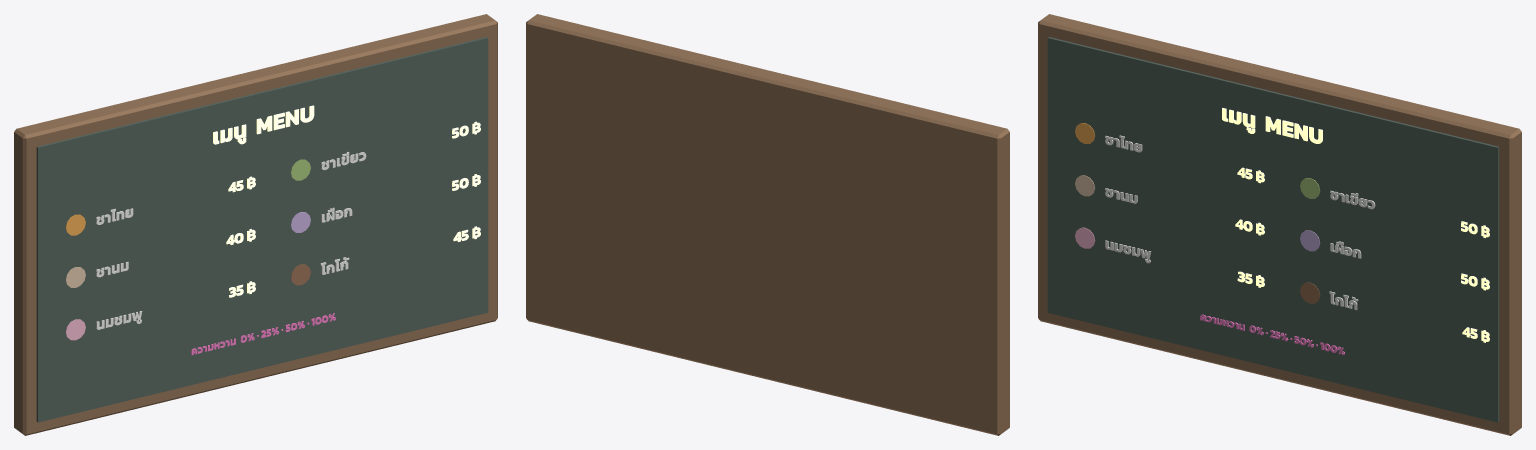
File: SM_MenuBoard.fbx
3 views of the same model, side by side, from view 1: azimuth 30°, elevation 25°; view 2: azimuth 150°, elevation 25°; view 3: azimuth 330°, elevation 25° (orthographic).
Visible parts, largest first — view 1: SM_MenuBoard; view 2: SM_MenuBoard; view 3: SM_MenuBoard.
Boxes of the visible parts, <box> form: SM_MenuBoard: <box>14,14,497,435</box>; SM_MenuBoard: <box>526,14,1009,435</box>; SM_MenuBoard: <box>1038,14,1521,435</box>.
Size of the model in its own units: 1.9 by 1.15 by 0.095.
